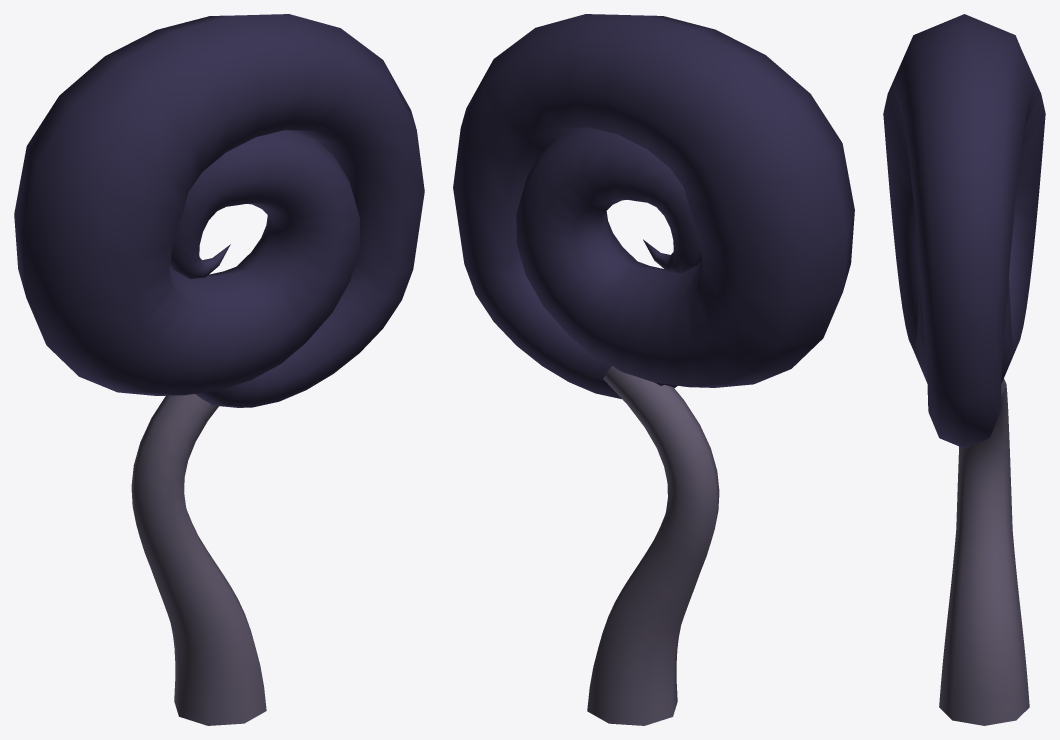
Rendered from quaternius-ultimate-space-pack-tree-swirl-2-transformed.glb.
3 renders of one model, left to right at view 1: azimuth 30°, elevation 25°; view 2: azimuth 150°, elevation 25°; view 3: azimuth 270°, elevation 25°, orthographic. The views are drawn at different scales.
Parts seen in each view (by area): view 1: Tree_Swirl_2; view 2: Tree_Swirl_2; view 3: Tree_Swirl_2.
Boxes of the visible parts, x1,y1,x2,y2 form: Tree_Swirl_2: (14, 14, 424, 725); Tree_Swirl_2: (453, 14, 854, 725); Tree_Swirl_2: (883, 14, 1045, 725).
Size of the model in its own units: 3.07 by 5.15 by 1.15.
1 material, 1 textured.
